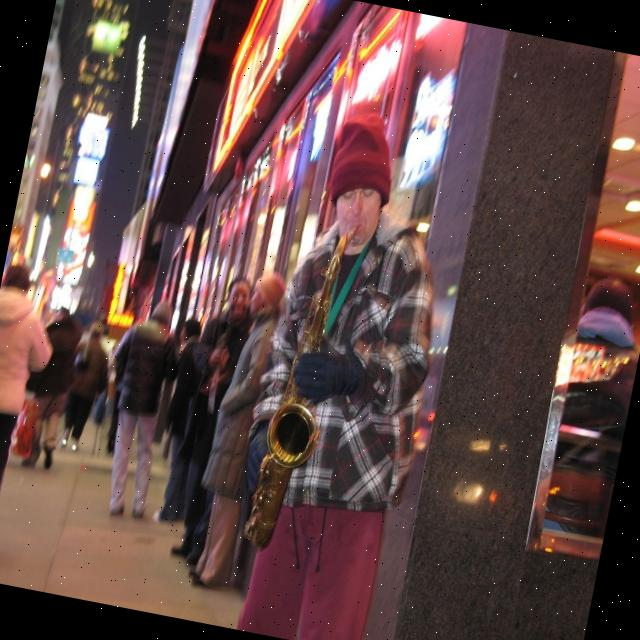saxophone: (240, 212, 360, 562)
